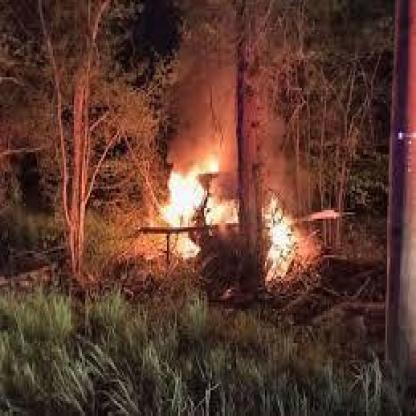fire: (116, 110, 326, 290)
